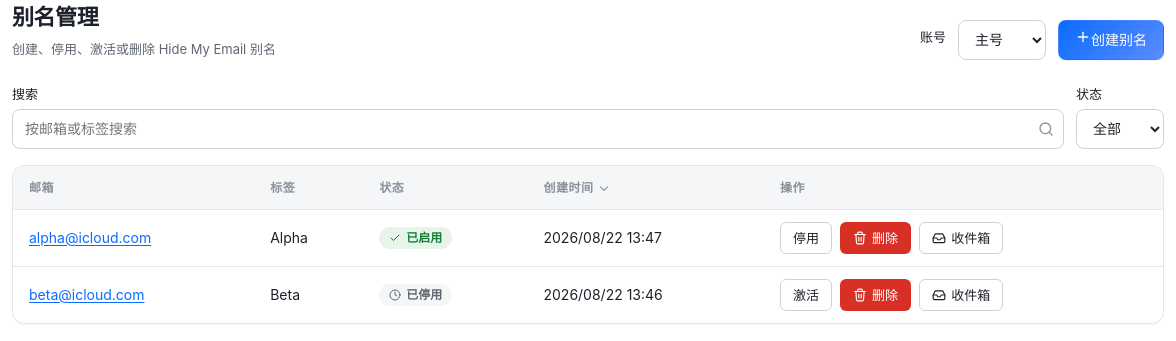
AliasesPage › 创建时间默认倒序且可切换正序,兼容时间戳并按收件箱格式显示
Expected: the button "alpha@icloud.com" is shown, left=29, top=227, right=151, bottom=250
Expected: the buttons "@icloud.com" read "alpha@icloud.com", "beta@icloud.com", in this order, left=29, top=227, right=151, bottom=250; left=29, top=284, right=144, bottom=307
Click the button with aria-label "创建时间排序": (577, 188) left=544, top=178, right=611, bottom=197
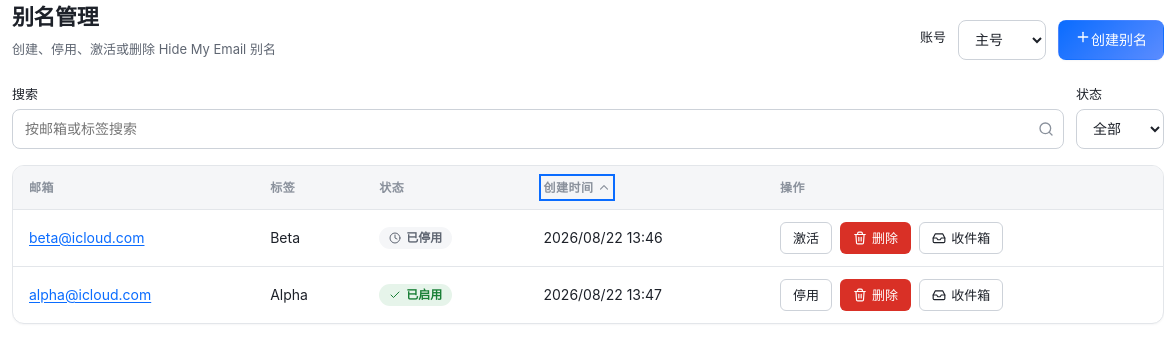
Now the buttons "@icloud.com" read "beta@icloud.com", "alpha@icloud.com", in this order, box left=29, top=227, right=144, bottom=250; left=29, top=284, right=151, bottom=307
